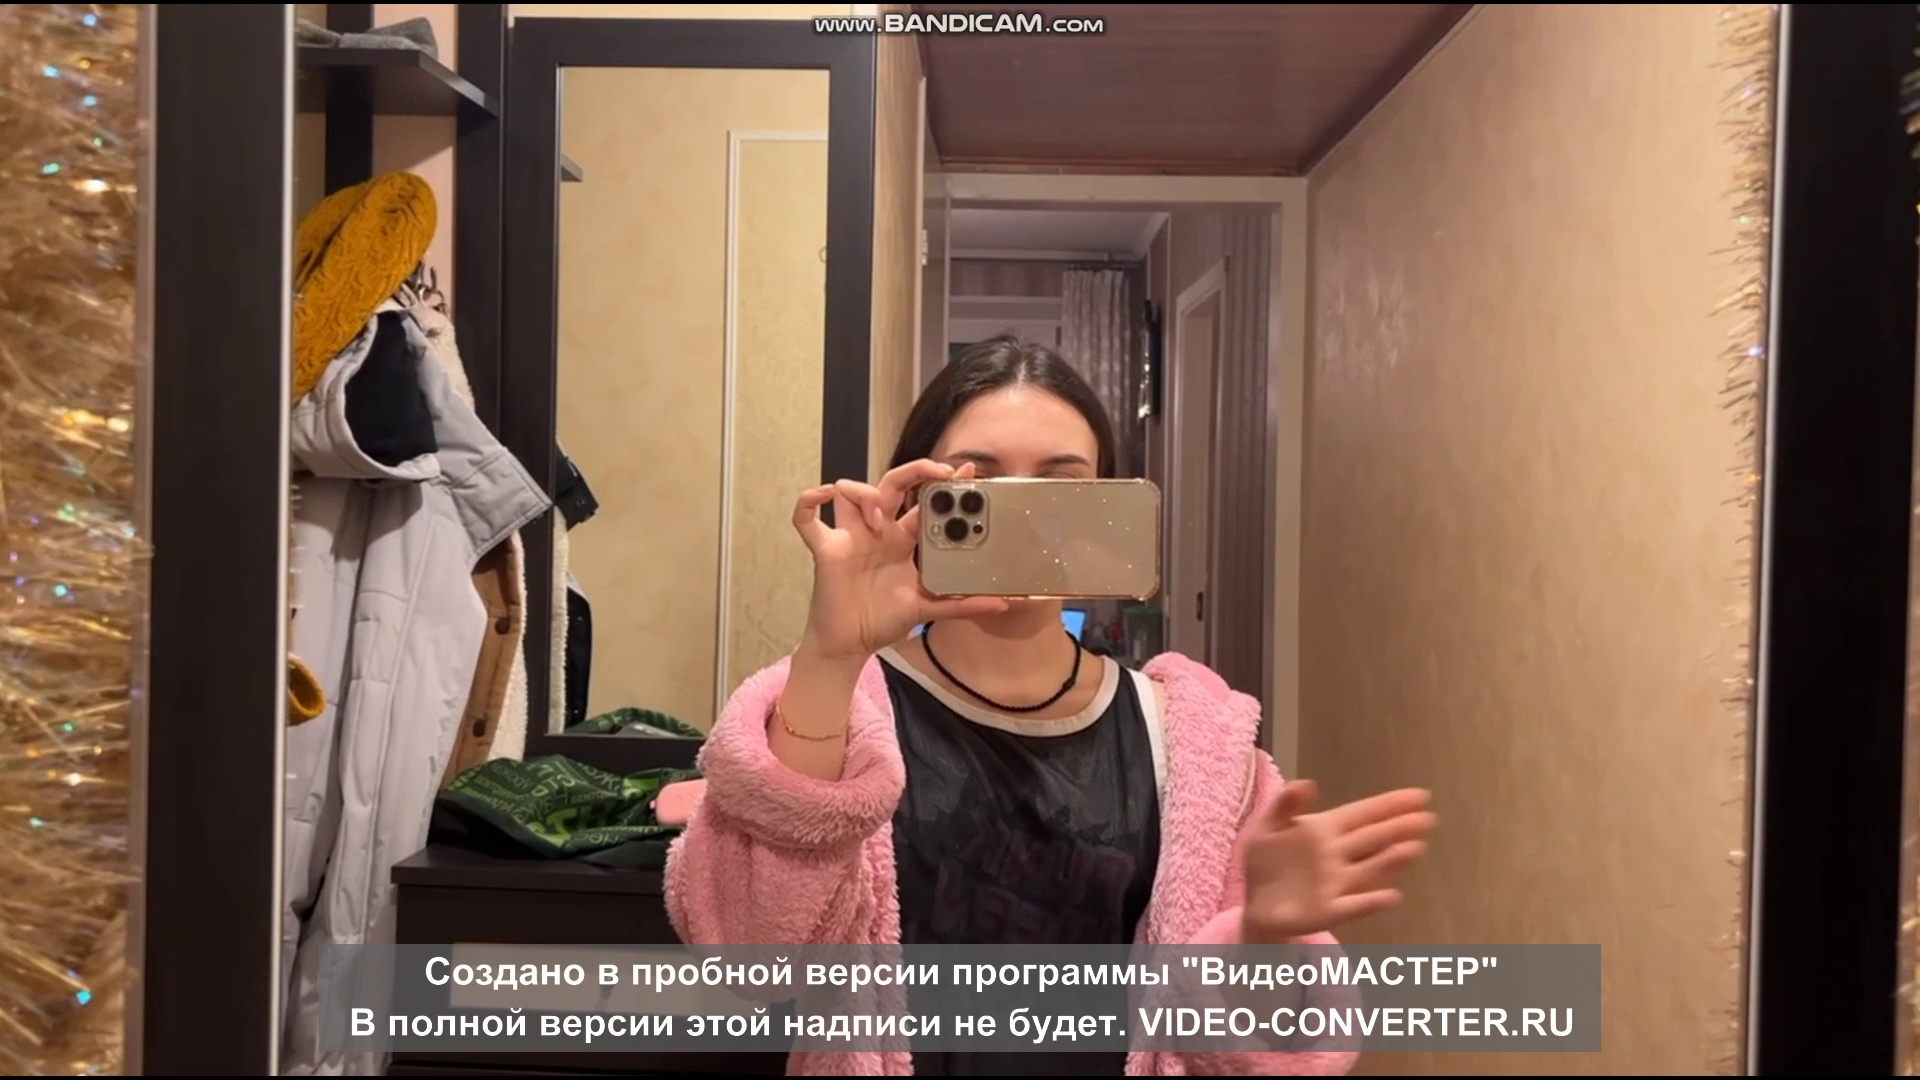Ладонь: (1244, 774, 1439, 939)
